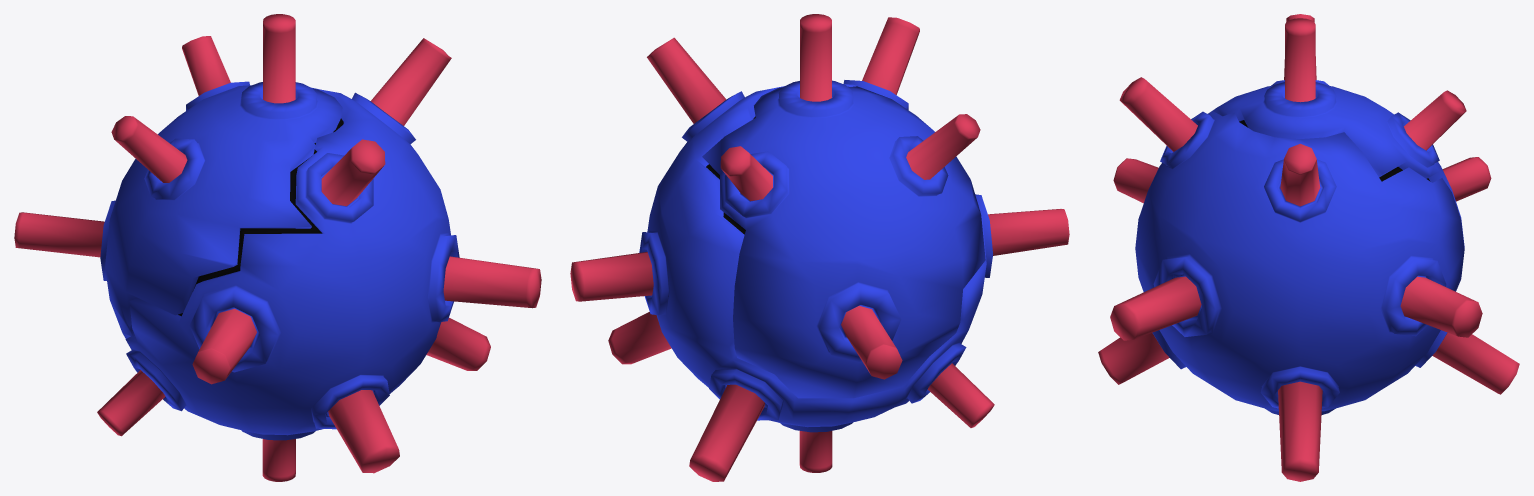
Rendered from mina.fbx.
3 views of the same model, side by side, from view 1: azimuth 30°, elevation 25°; view 2: azimuth 150°, elevation 25°; view 3: azimuth 270°, elevation 25° (orthographic). The views are drawn at different scales.
Parts seen in each view (by area): view 1: Sphere; view 2: Sphere; view 3: Sphere.
Part boxes in pixels (x1,y1,x2,y2): Sphere: [14, 14, 541, 481]; Sphere: [570, 14, 1069, 481]; Sphere: [1098, 14, 1519, 481].
Size of the model in its own units: 253 by 286 by 256.
